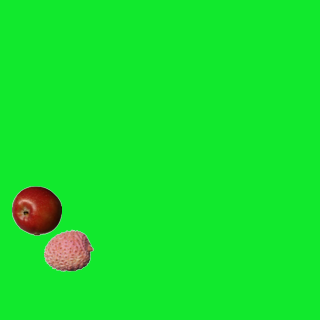Apple Braeburn: (11, 185, 61, 235)
Lychee: (43, 225, 93, 275)
